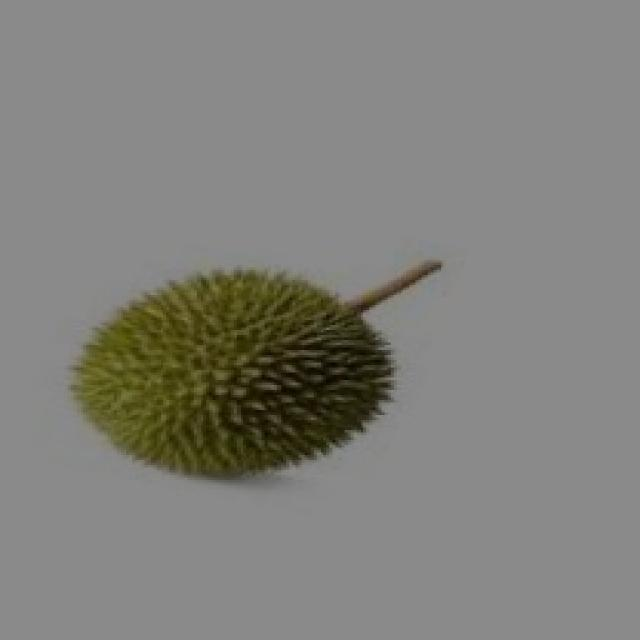fruit: (37, 230, 418, 525)
